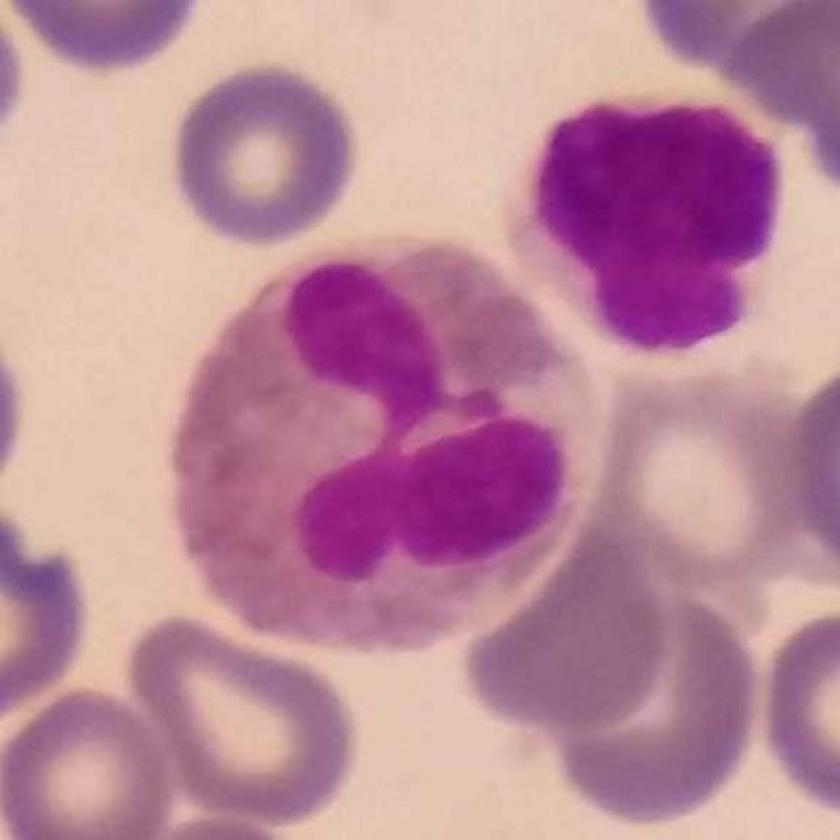eosinophil: (168, 231, 609, 655)
